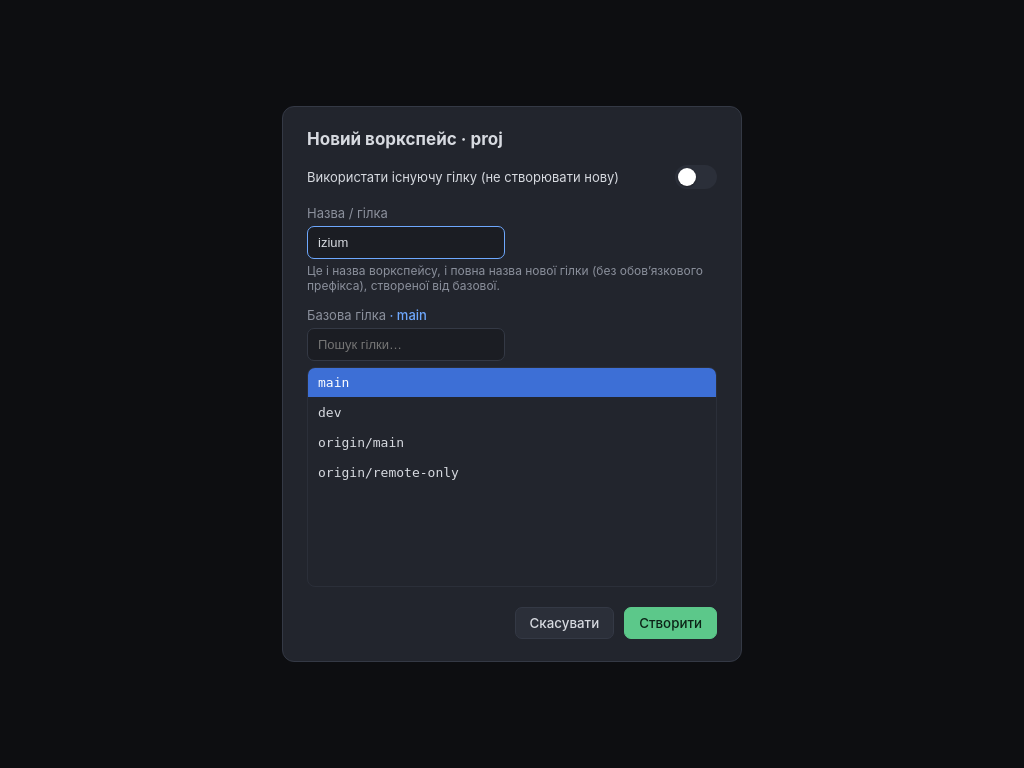
Scenario: NewWorkspaceModal › flags a duplicate name within the project and disables submit
Expected: the text "dev" is shown, top-left (308, 398), bottom-right (716, 428)
Replace the text in the field with placeholder "напр. feature/login" with "dup". click: (406, 242)
box: top-left (307, 226), bottom-right (505, 259)
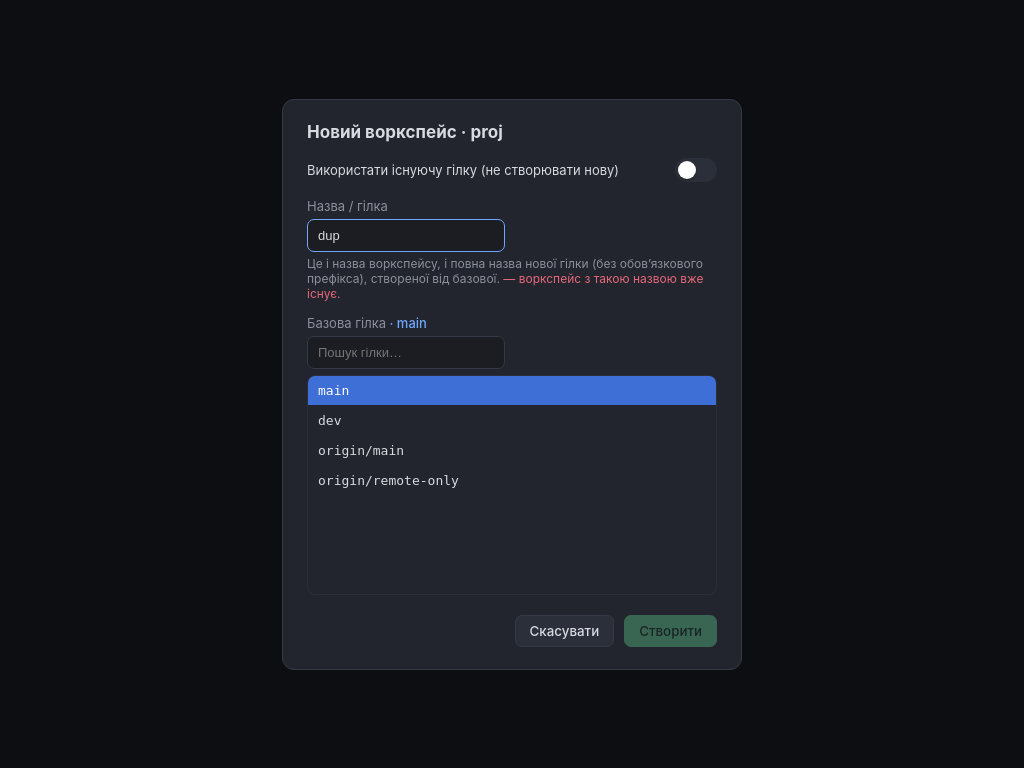
Now the text "— воркспейс з такою назвою вже існує." is shown, box top-left (307, 270), bottom-right (704, 300)
Now the button "Створити" is disabled, box top-left (624, 614), bottom-right (717, 646)
